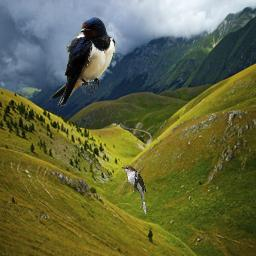Cuckoo: (120, 165, 146, 214)
Swallow: (50, 16, 116, 109)
